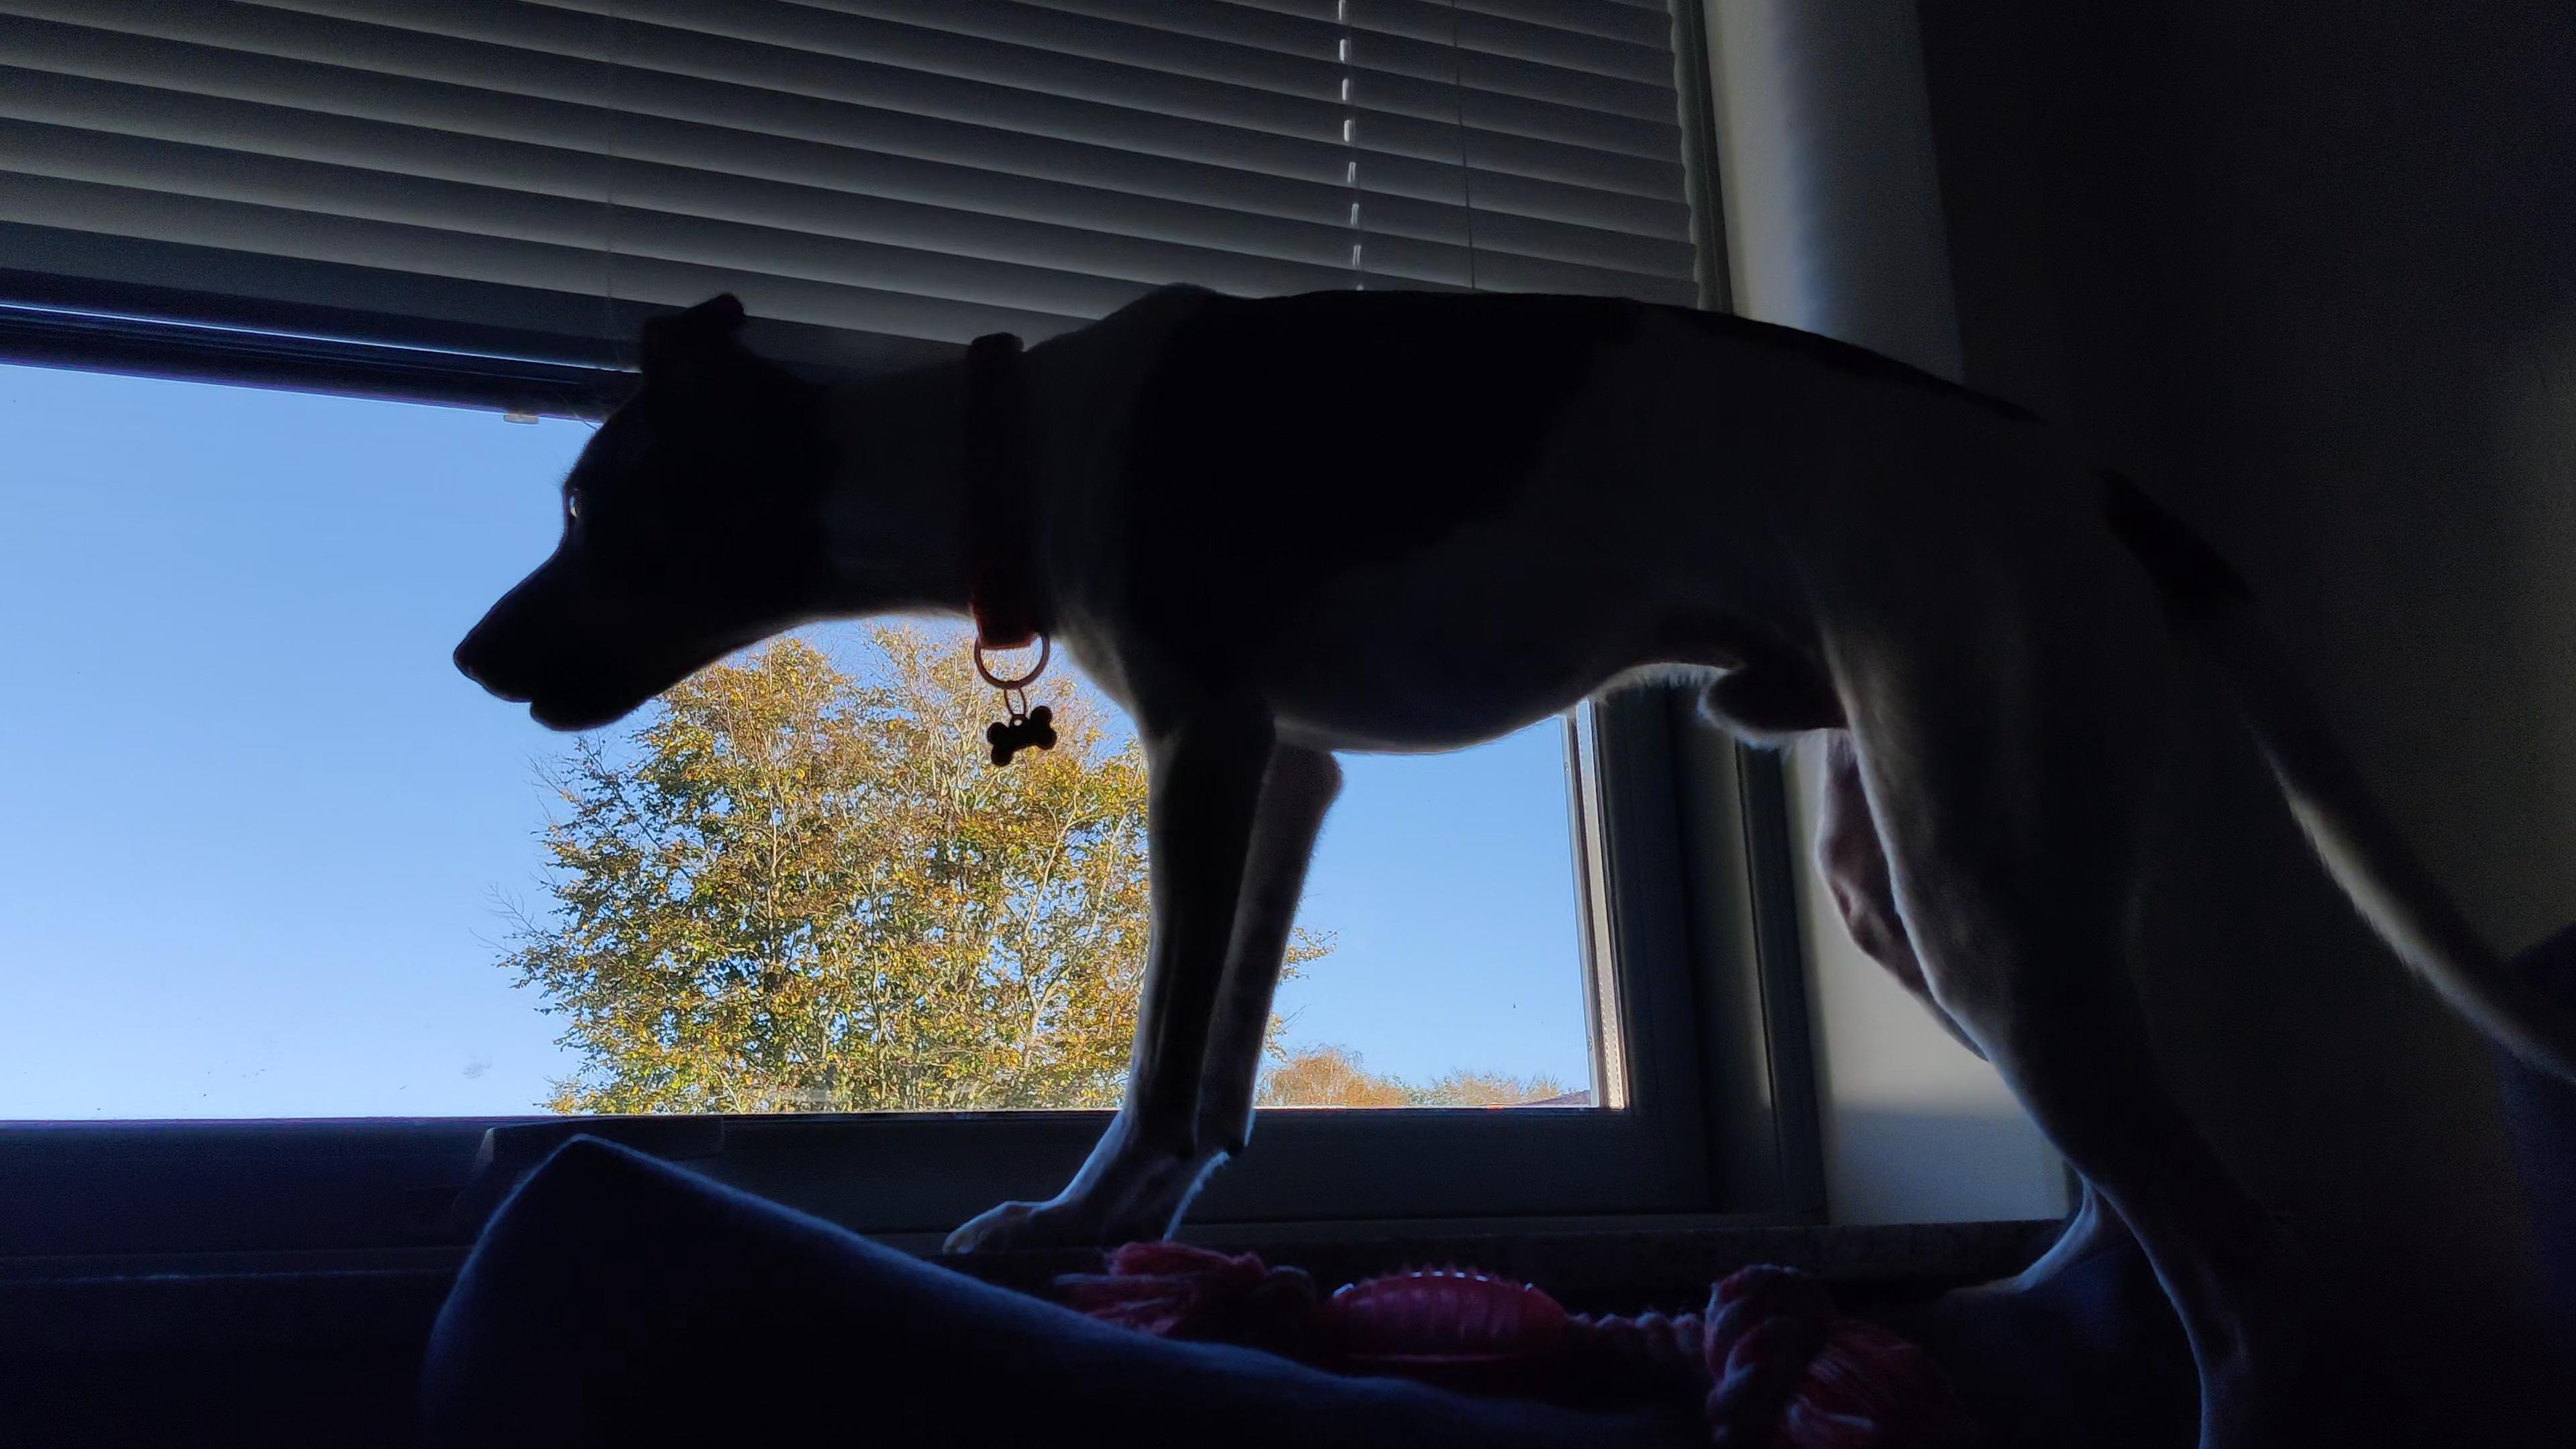Dog: (444, 267, 2576, 1449)
